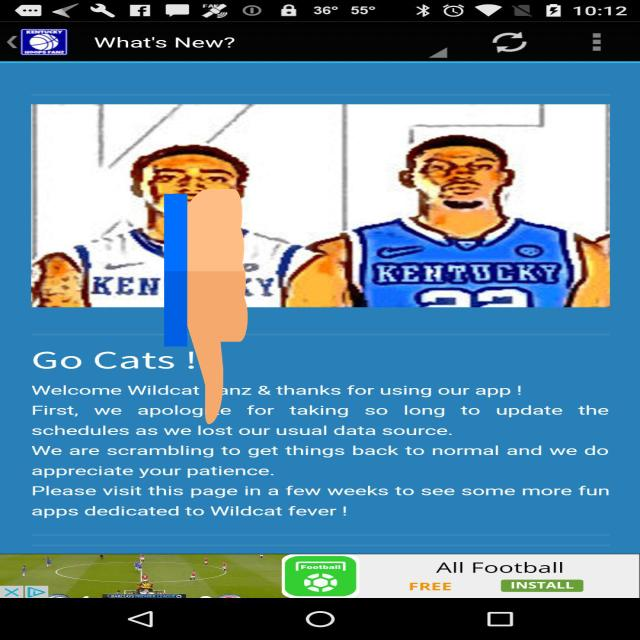obstruction: (164, 183, 248, 430)
